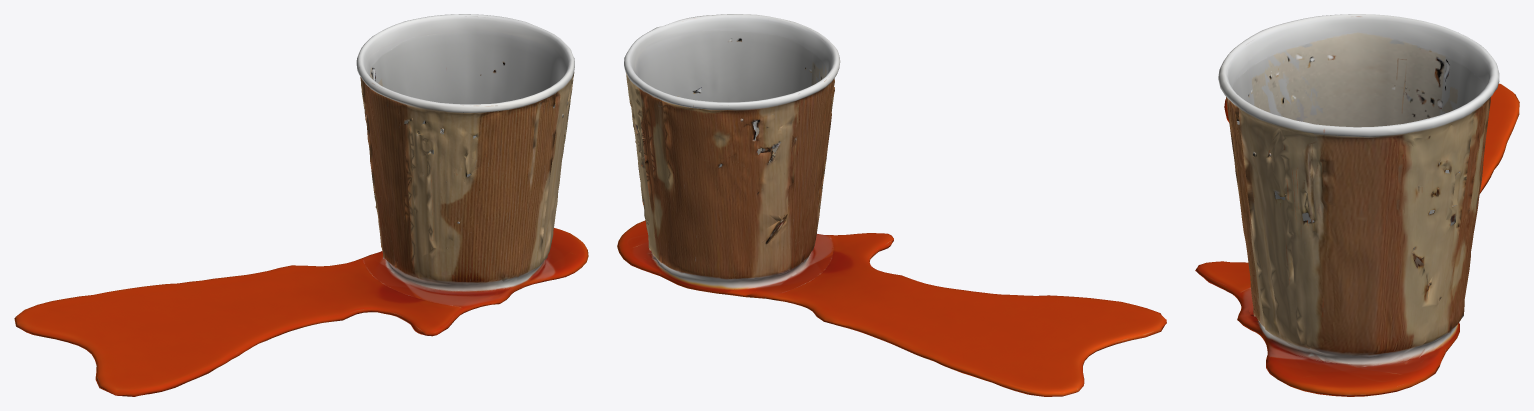
The model's file is Meshy_AI_Spilled_Coffee_Cup_0102213148_texture.fbx.
3 views of the same model, side by side, from view 1: azimuth 30°, elevation 25°; view 2: azimuth 150°, elevation 25°; view 3: azimuth 270°, elevation 25° (orthographic). The views are drawn at different scales.
Visible parts, largest first — view 1: Mesh0; view 2: Mesh0; view 3: Mesh0.
Boxes of the visible parts, x1,y1,x2,y2 form: Mesh0: (14, 14, 588, 396); Mesh0: (617, 14, 1166, 396); Mesh0: (1195, 14, 1519, 396).
Bounding box in the file's own units: 191 × 74.11 × 83.58.
1 material, 1 textured.
